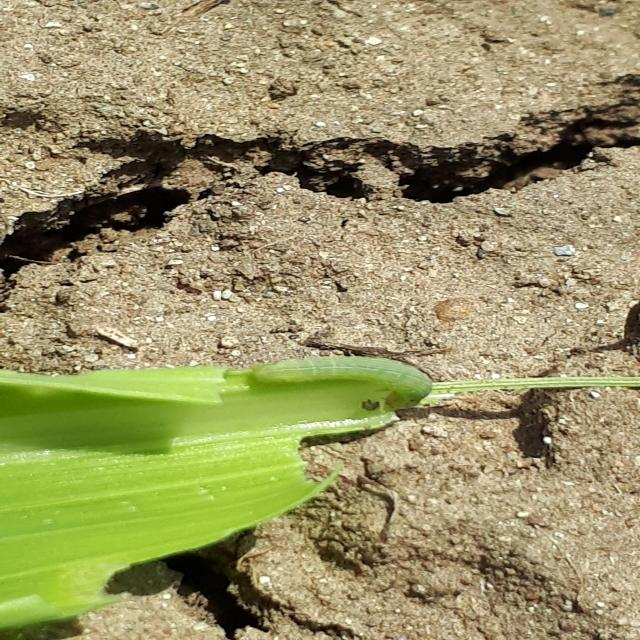armyworm: (241, 351, 433, 412)
